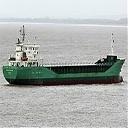Ships: (4, 22, 126, 91)
